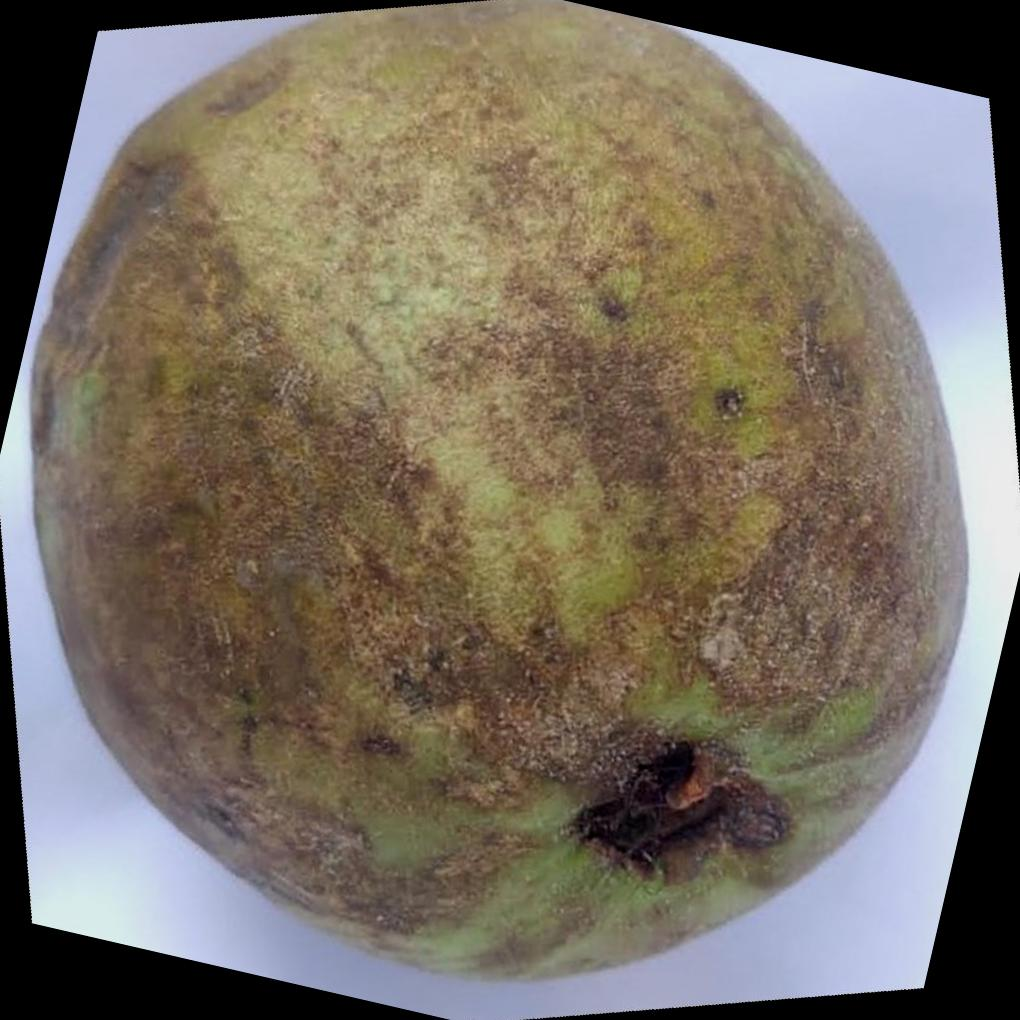FreshOrange: (32, 0, 975, 982)
